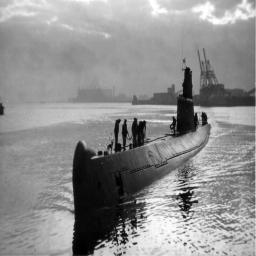submarine: (75, 70, 212, 218)
